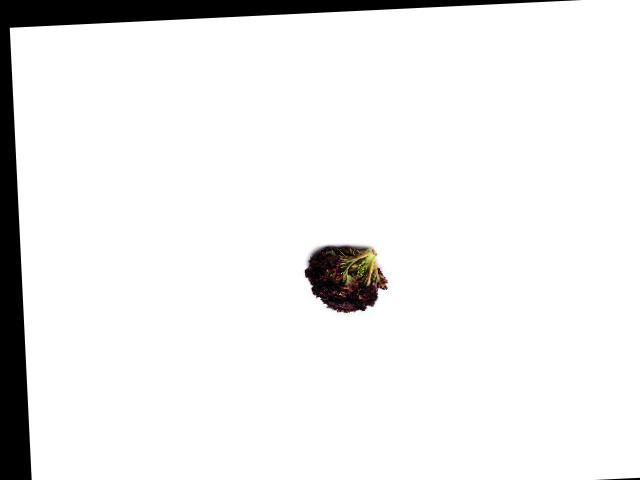lettuce: (299, 239, 384, 317)
